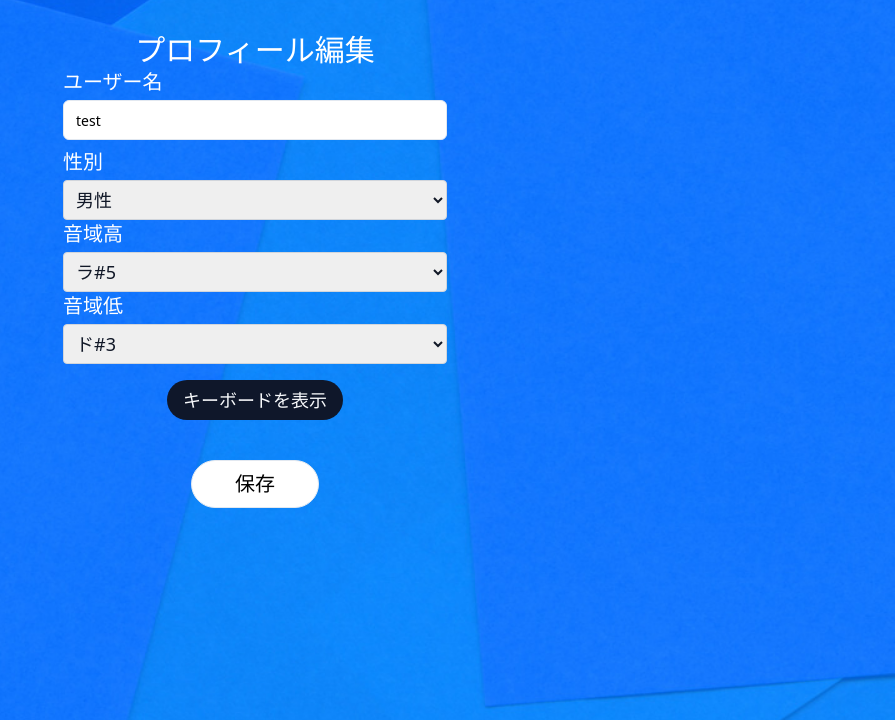
it: プロフィール編集ページ › APIエラー時にエラーメッセージが表示される
In the field labelled "ユーザー名": (255, 120) [63, 100, 447, 140], type "newName"
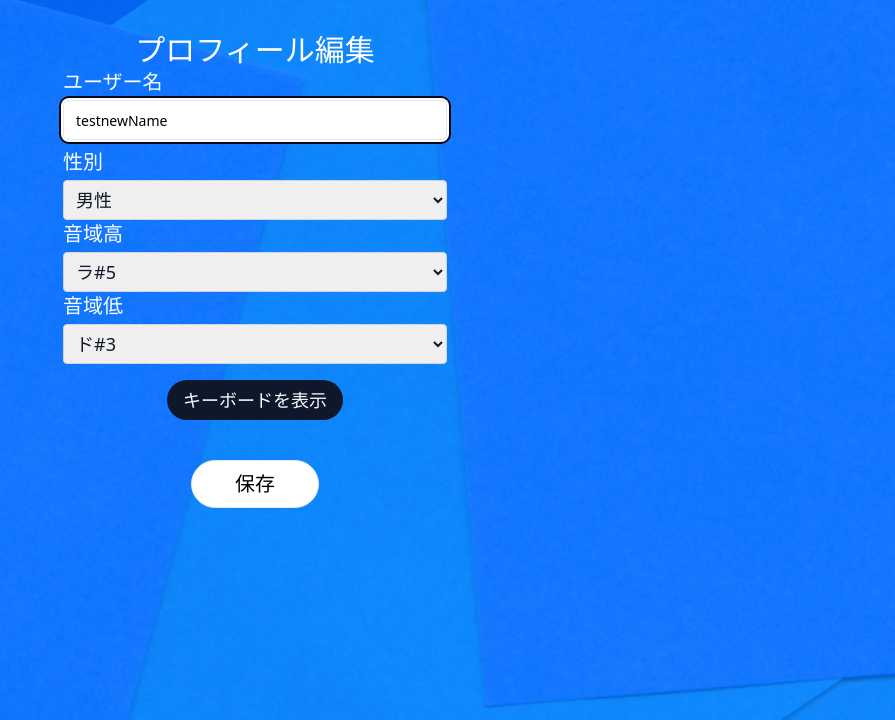
Click the button "保存": (255, 484) [191, 460, 319, 508]
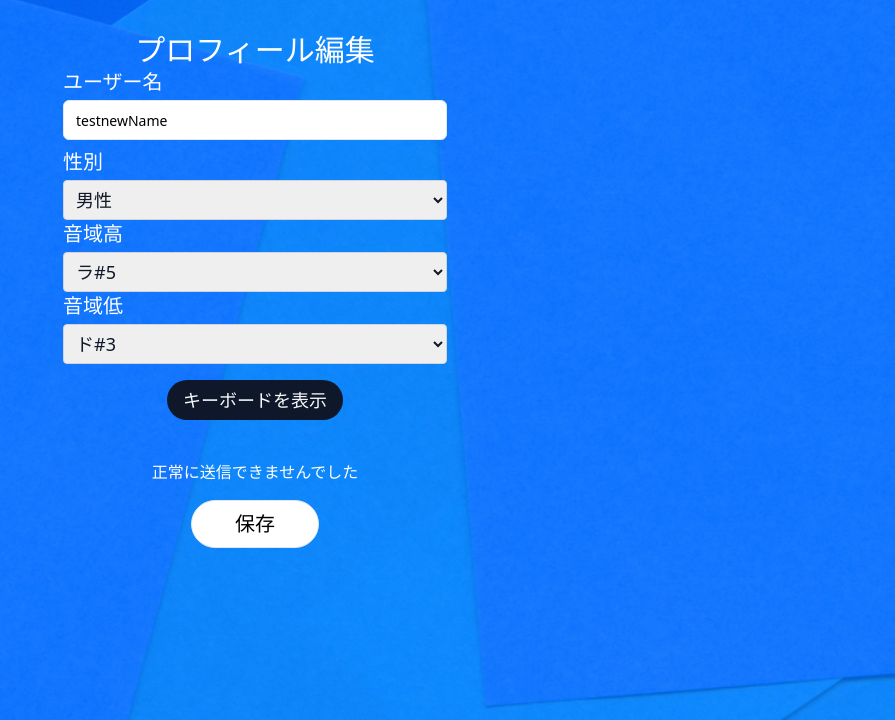
Now the text "正常に送信できませんでした" is shown, box [152, 460, 358, 484]
